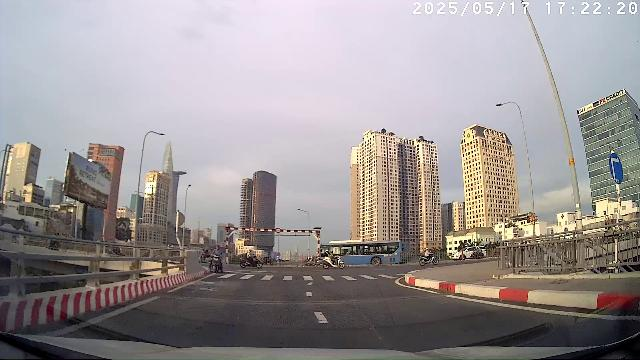301d-cac-xe-chi-duoc-re-phai-2: (608, 153, 624, 185)
